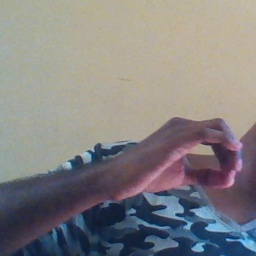O: (125, 109, 246, 198)
